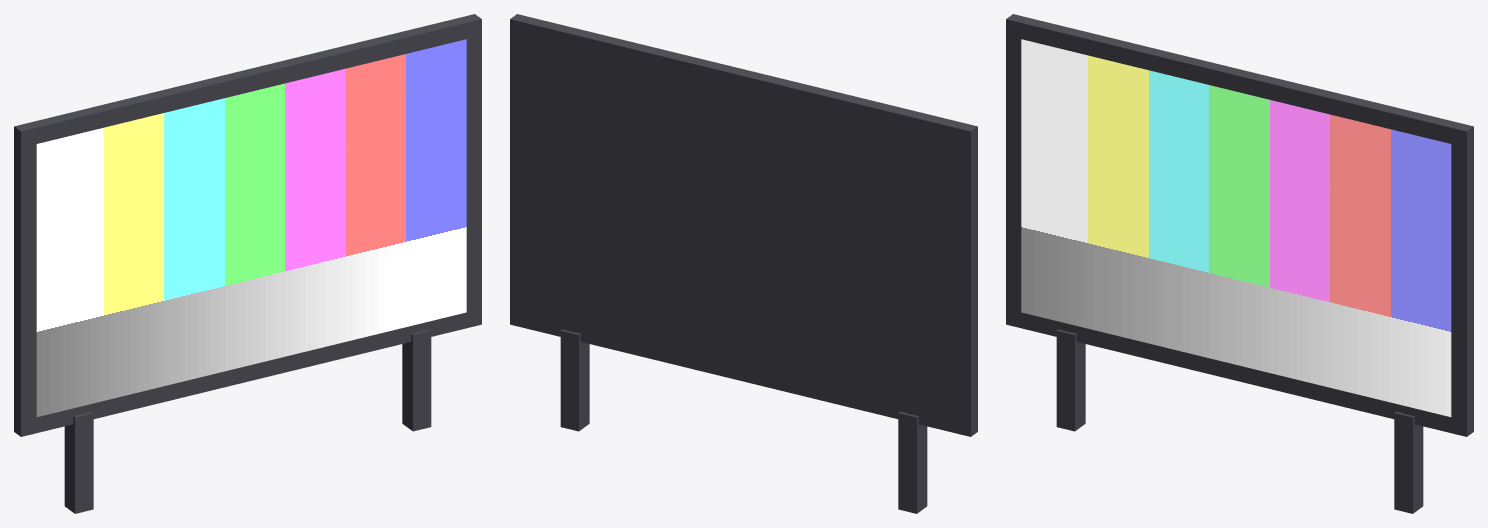
The model's file is Screen.glb.
3 views of the same model, side by side, from view 1: azimuth 30°, elevation 25°; view 2: azimuth 150°, elevation 25°; view 3: azimuth 330°, elevation 25° (orthographic).
Visible parts, largest first — view 1: Screen; view 2: Screen; view 3: Screen.
Part boxes in pixels (x1=…): Screen: x1=14, y1=14, x2=481, y2=513; Screen: x1=510, y1=14, x2=977, y2=513; Screen: x1=1006, y1=14, x2=1473, y2=513.
Bounding box in the file's own units: 3 × 2.45 × 0.12.
Materials: 2 (1 with a texture image).
